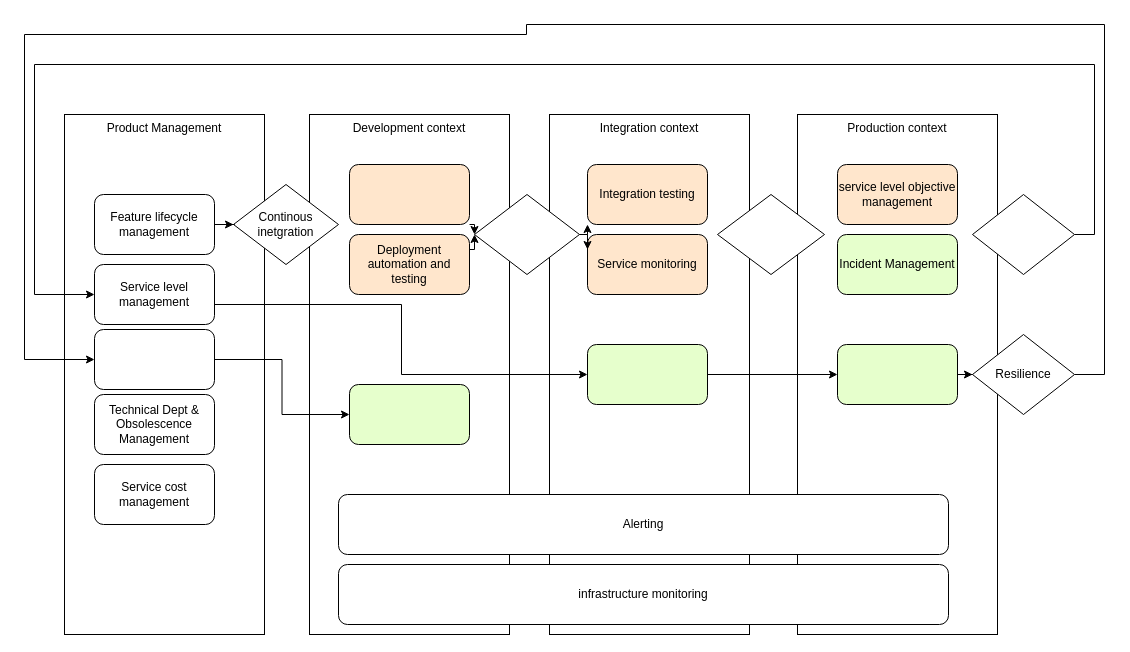
Some shapes in this 1130 by 652 pixel diagram are drawn without their labels. The shapes that lost their labels are listed below. From the top down, each one's centre as x and y in pixels, then its label:
At point (409, 194): "Feature development testing".
At point (527, 234): "Continuous deployment".
At point (770, 234): "Continuous Delivery".
At point (1023, 234): "Continous Improvement".
At point (154, 359): "Growth management".
At point (647, 374): "Performance testing & chaos testing".
At point (897, 374): "Smoke testing".
At point (409, 414): "Cost estimation".
